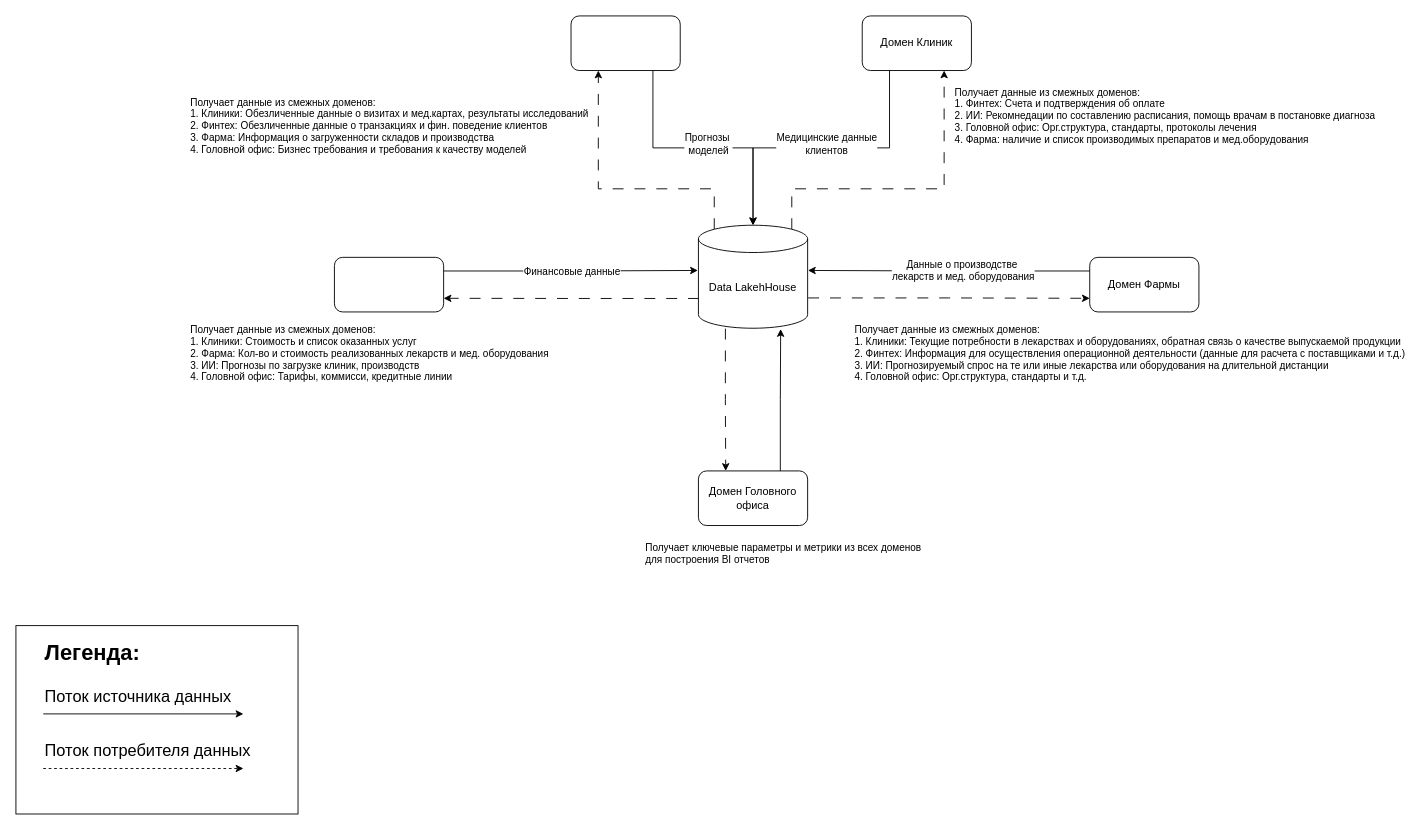
Some shapes in this 1421 by 830 pixel diagram are drawn without their labels. Each missing label, with the box of its shape:
Домен ИИ: (570, 15, 680, 71)
Домен Финтеха: (334, 256, 444, 312)
